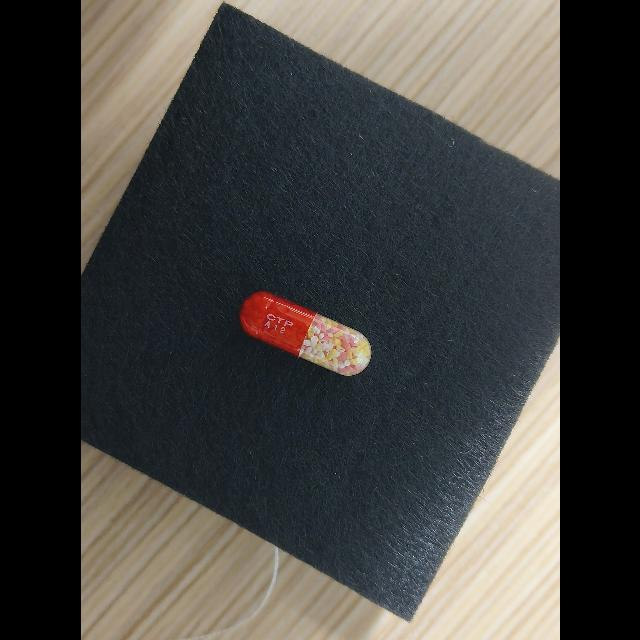Intact Capsule: (238, 291, 371, 376)
